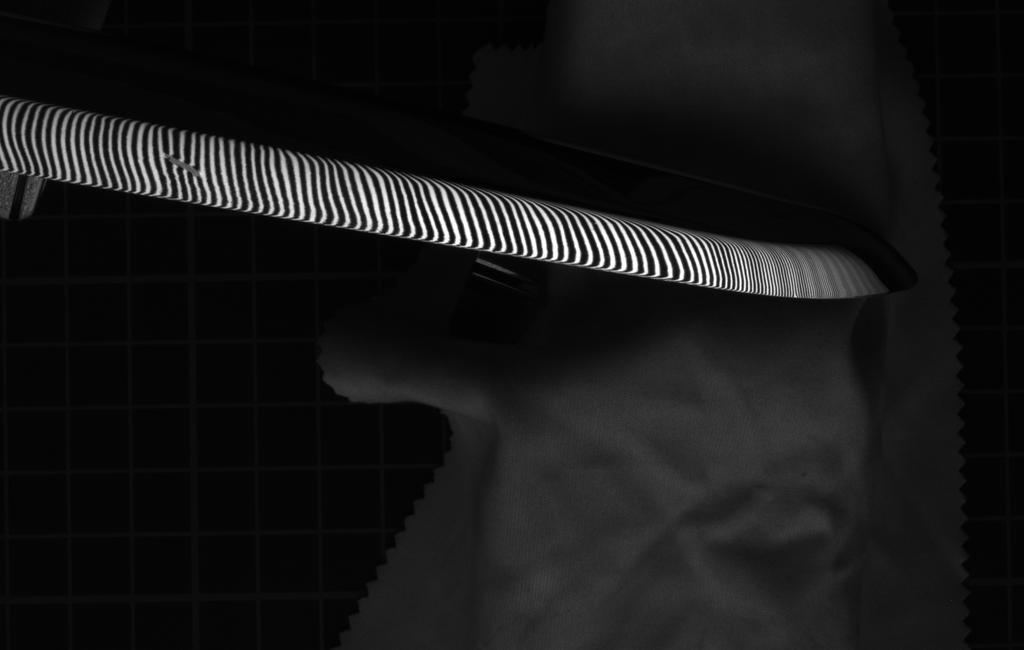Scratch: (154, 149, 209, 186)
